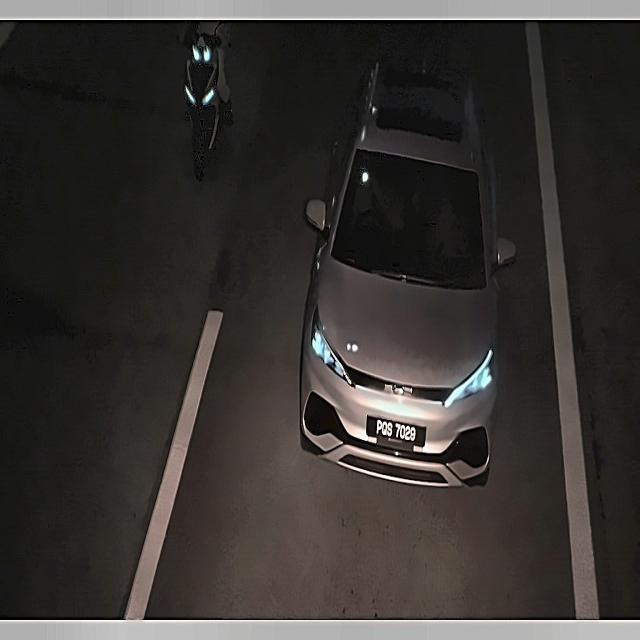car: (363, 407, 428, 447)
